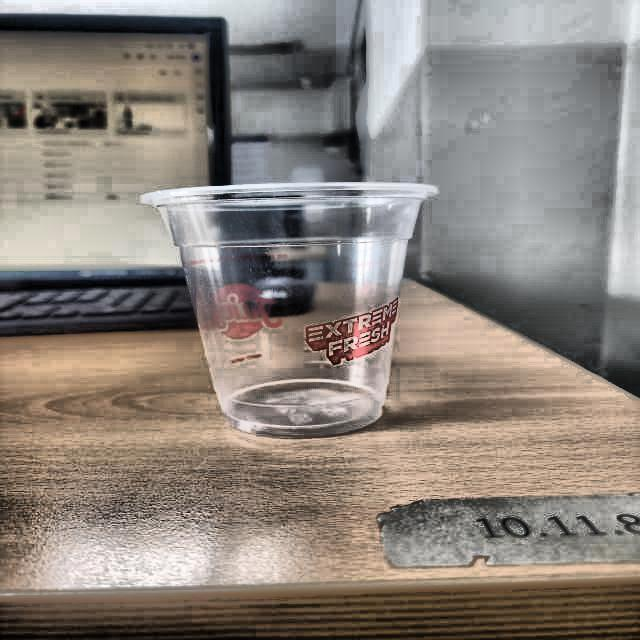plastic cup: (138, 182, 448, 436)
